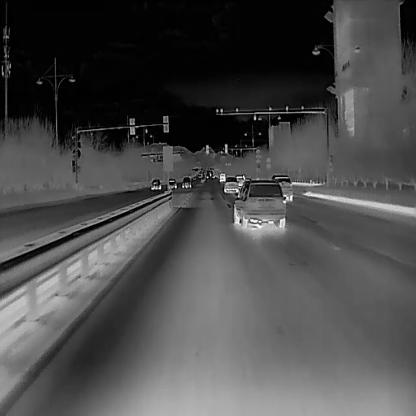car: (232, 178, 285, 229), (272, 174, 292, 201), (223, 177, 238, 192), (180, 174, 191, 188), (149, 176, 158, 188), (166, 178, 176, 188)
